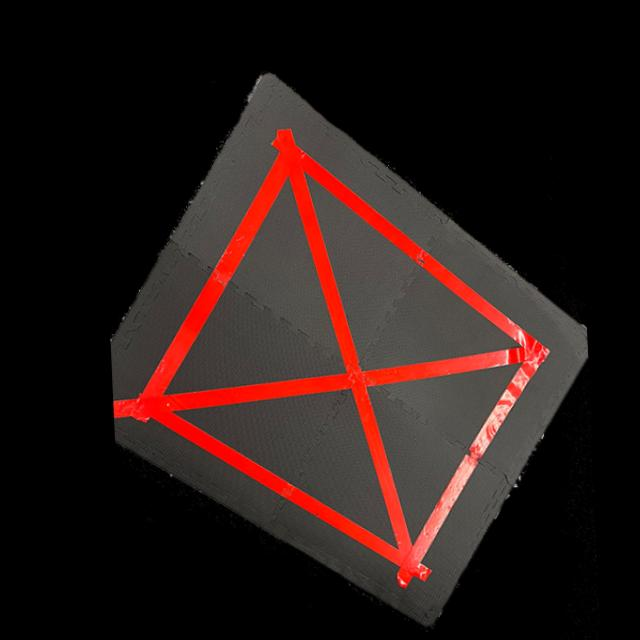landingPads: (95, 42, 595, 632)
